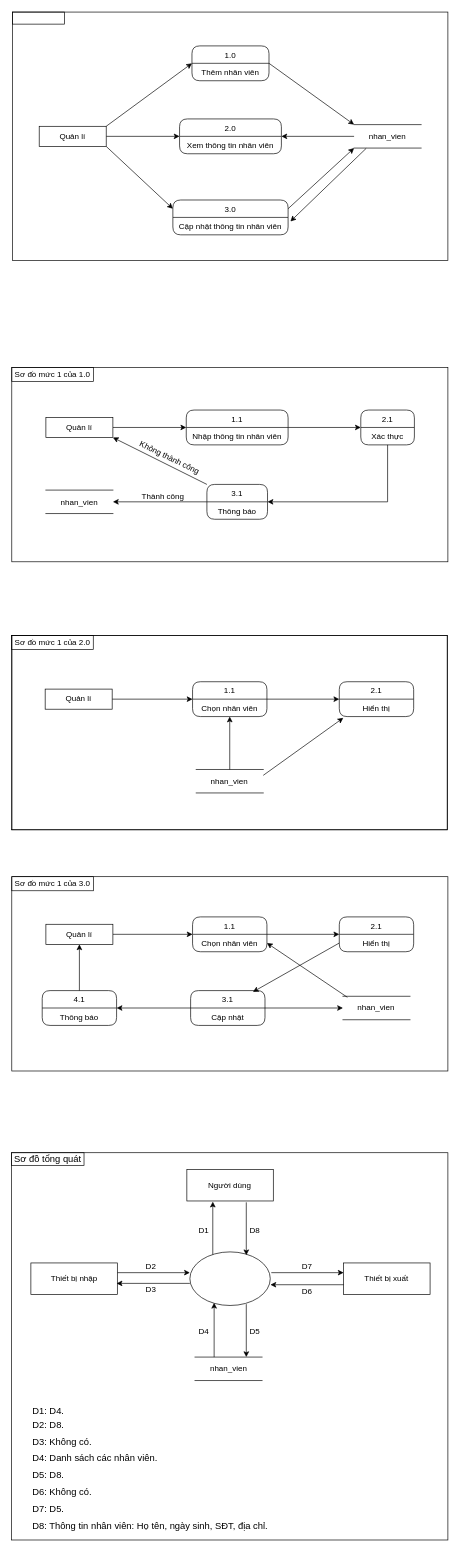
Image size: 460x1552. Some labels were removed from this diagram. Each missing label, with the centre of its shape:
"Quản lí nhân viên" belongs at [229,1278].
"Sơ đồ mức 0" belongs at [38,17].
